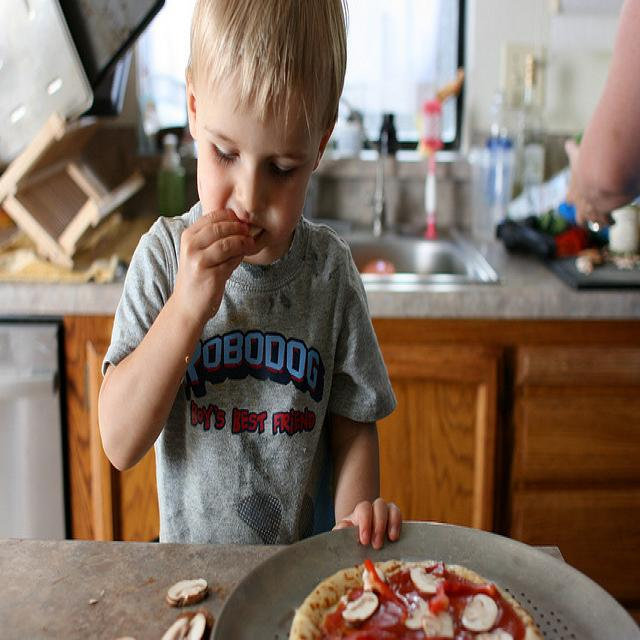chair: (54, 315, 519, 542)
dining table: (0, 534, 564, 633)
